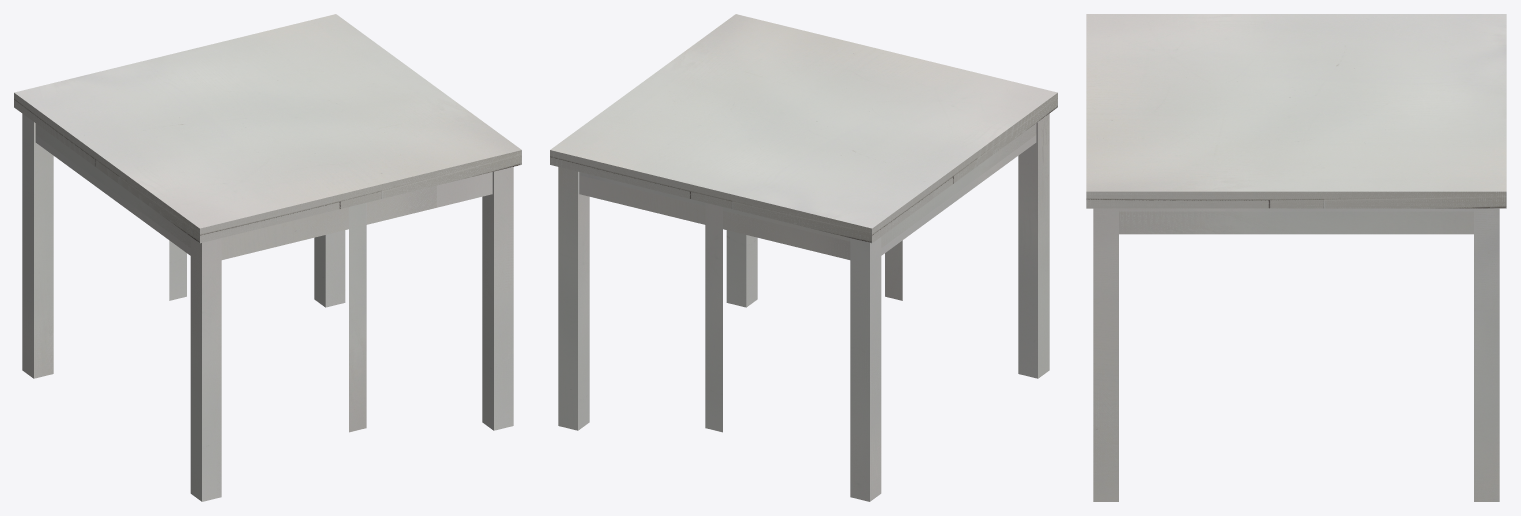
Rendered from table_ikea_bjursta_tape.dae.
3 renders of one model, left to right at view 1: azimuth 30°, elevation 25°; view 2: azimuth 150°, elevation 25°; view 3: azimuth 270°, elevation 25°, orthographic. The views are drawn at different scales.
Parts seen in each view (by area): view 1: SketchUp (×3); view 2: SketchUp (×3); view 3: SketchUp (×3).
Boxes of the visible parts, left/top/right/bottom form: SketchUp (×3): left=14, top=14, right=521, bottom=501; SketchUp (×3): left=550, top=14, right=1057, bottom=501; SketchUp (×3): left=1086, top=14, right=1506, bottom=501.
Size of the model in its own units: 0.9003 by 0.8995 by 0.7396.
2 materials, 2 textured.
